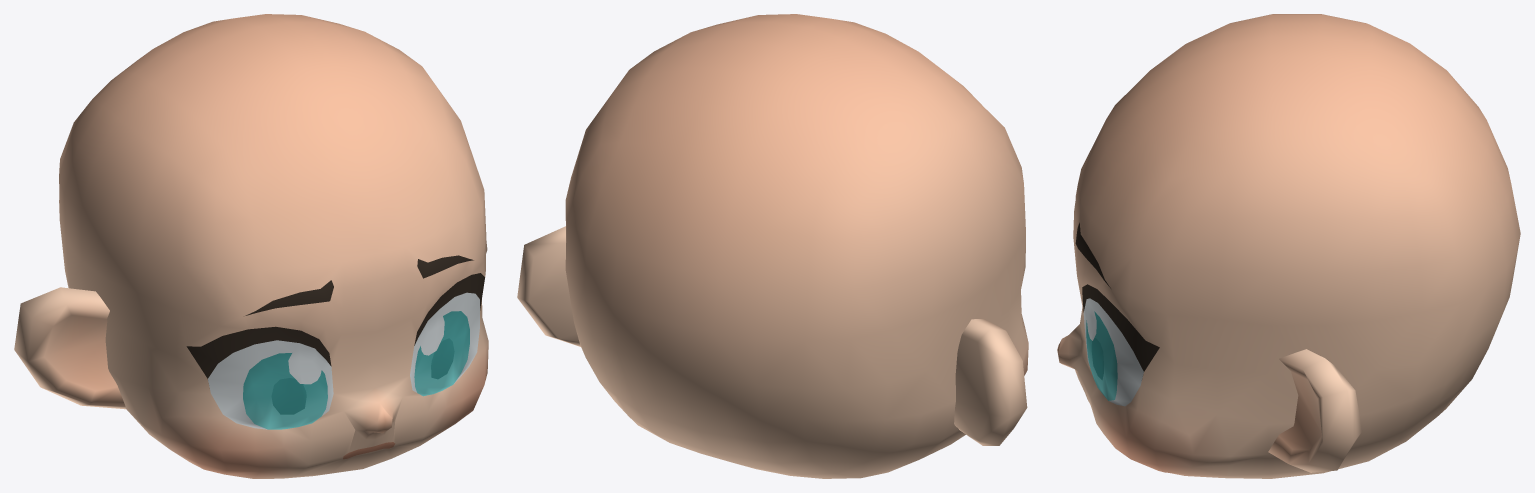
3 renders of one model, left to right at view 1: azimuth 30°, elevation 25°; view 2: azimuth 150°, elevation 25°; view 3: azimuth 270°, elevation 25°, orthographic. The views are drawn at different scales.
Visible parts, largest first — view 1: Face_B3; view 2: Face_B3; view 3: Face_B3.
Part boxes in pixels (left/top/right/bottom): Face_B3: left=14, top=14, right=488, bottom=478; Face_B3: left=517, top=14, right=1028, bottom=478; Face_B3: left=1057, top=14, right=1520, bottom=478.
Size of the model in its own units: 81.66 by 66.4 by 68.58.
